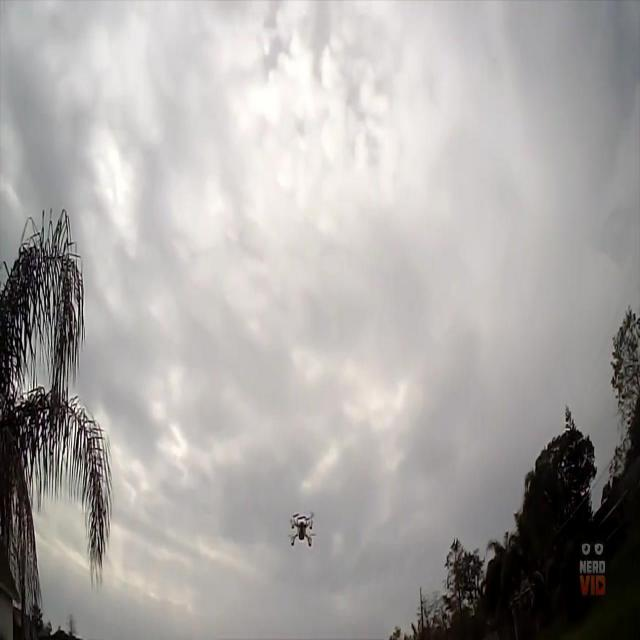UAV: (287, 511, 316, 547)
